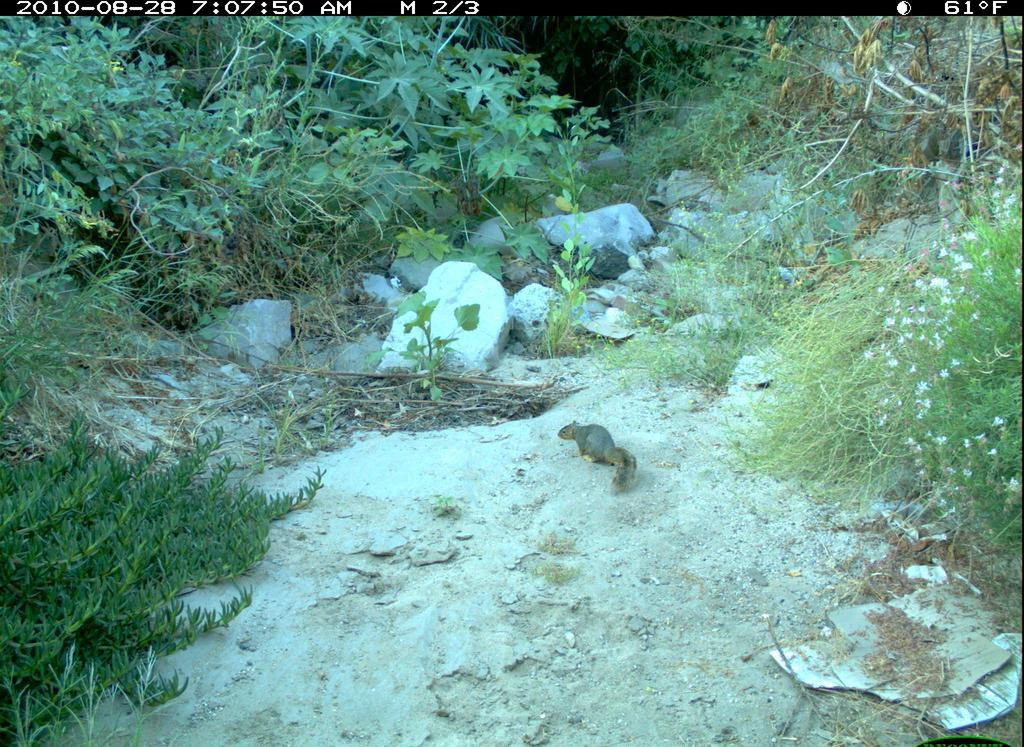squirrel: (552, 414, 652, 510)
